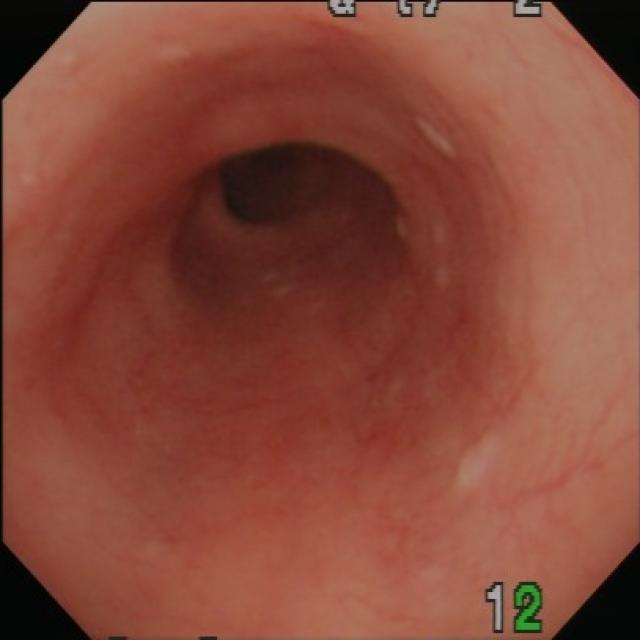E: (187, 131, 372, 261)
J: (449, 426, 506, 491), (410, 113, 466, 171)
S: (485, 581, 547, 636), (325, 3, 545, 18)
